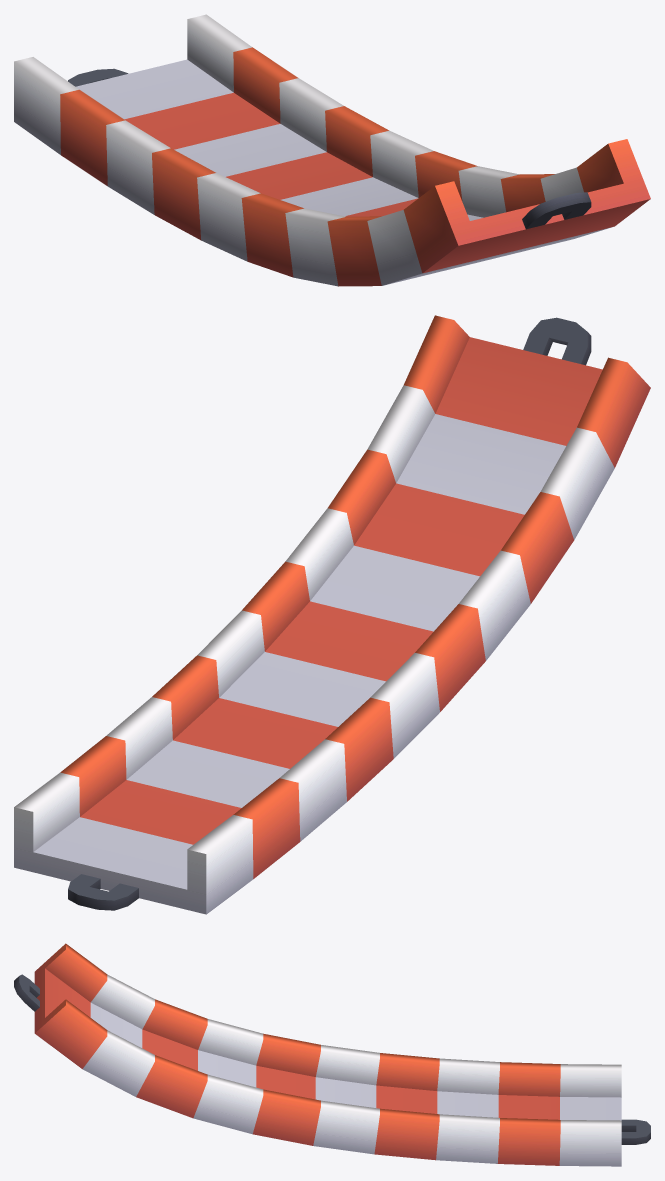
File: track-striped-narrow-straight-hill-beginning.glb
The picture shows the model from 3 angles, top to bottom: view 1: azimuth 30°, elevation 25°; view 2: azimuth 150°, elevation 25°; view 3: azimuth 270°, elevation 25°; orthographic projection. The views are drawn at different scales.
Parts seen in each view (by area): view 1: track-striped-narrow-straight-hill-beginning; view 2: track-striped-narrow-straight-hill-beginning; view 3: track-striped-narrow-straight-hill-beginning.
Part boxes in pixels (<box>): track-striped-narrow-straight-hill-beginning: <box>14,14,650,286</box>; track-striped-narrow-straight-hill-beginning: <box>14,315,650,914</box>; track-striped-narrow-straight-hill-beginning: <box>14,943,650,1166</box>.
Size of the model in its own units: 1 by 1.21 by 4.34.
Materials: 1 (1 with a texture image).
